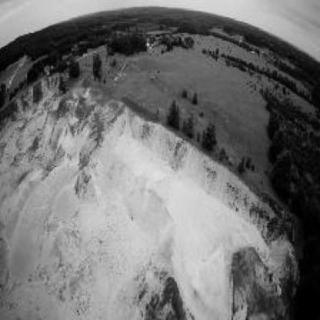other: (74, 131, 276, 265)
